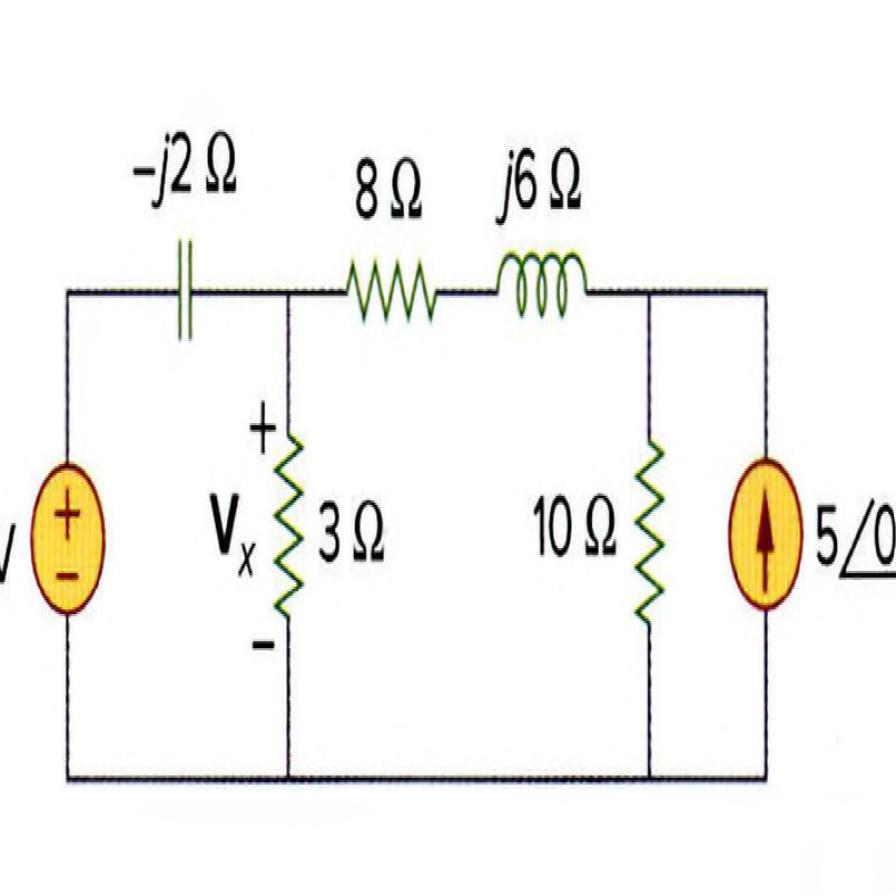C1: (149, 214, 214, 358)
I1: (724, 436, 809, 651)
L1: (485, 228, 602, 330)
R1: (336, 234, 446, 355)
R2: (622, 404, 671, 651), (272, 418, 308, 637)
V1: (21, 458, 114, 632)
